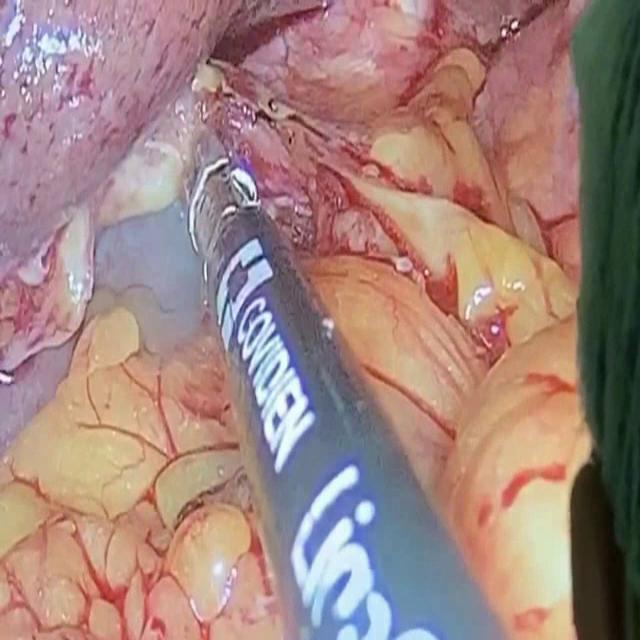surgical-tool: (185, 126, 514, 639)
